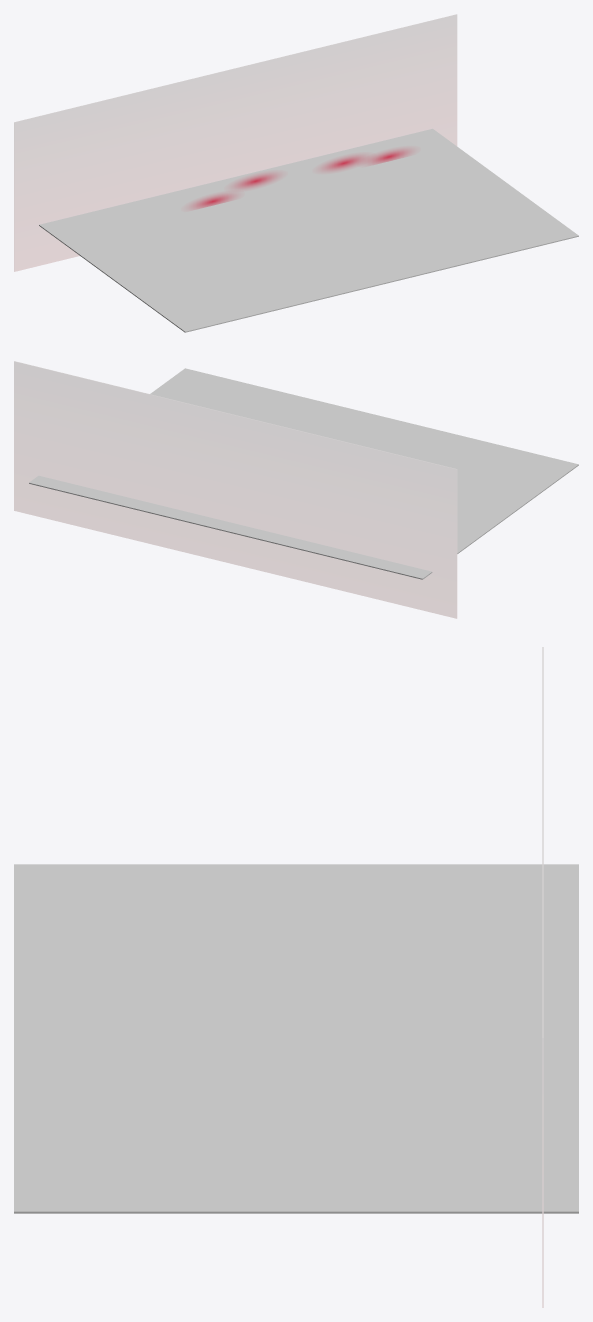
File: crimson.glb
The picture shows the model from 3 angles, top to bottom: view 1: azimuth 30°, elevation 25°; view 2: azimuth 150°, elevation 25°; view 3: azimuth 270°, elevation 25°; orthographic projection. The views are drawn at different scales.
Parts seen in each view (by area): view 1: Ground contact / transparent shadow receiver.006, Sky gradient / editable material.006, Motion / cloud 3.001, Motion / cloud 5.001, Motion / cloud 6.001; view 2: Sky gradient / editable material.006, Ground contact / transparent shadow receiver.006; view 3: Ground contact / transparent shadow receiver.006, Sky gradient / editable material.006.
Boxes of the visible parts, <box> form: Ground contact / transparent shadow receiver.006: <box>39,128,578,332</box>; Sky gradient / editable material.006: <box>14,14,457,271</box>; Motion / cloud 3.001: <box>232,173,279,189</box>; Motion / cloud 5.001: <box>321,155,366,171</box>; Motion / cloud 6.001: <box>365,148,412,164</box>; Sky gradient / editable material.006: <box>14,361,457,618</box>; Ground contact / transparent shadow receiver.006: <box>29,368,578,579</box>; Ground contact / transparent shadow receiver.006: <box>14,864,578,1213</box>; Sky gradient / editable material.006: <box>542,647,543,1307</box>.
Bounding box in the file's own units: 180 × 58 × 110.
3 materials, 1 textured.
